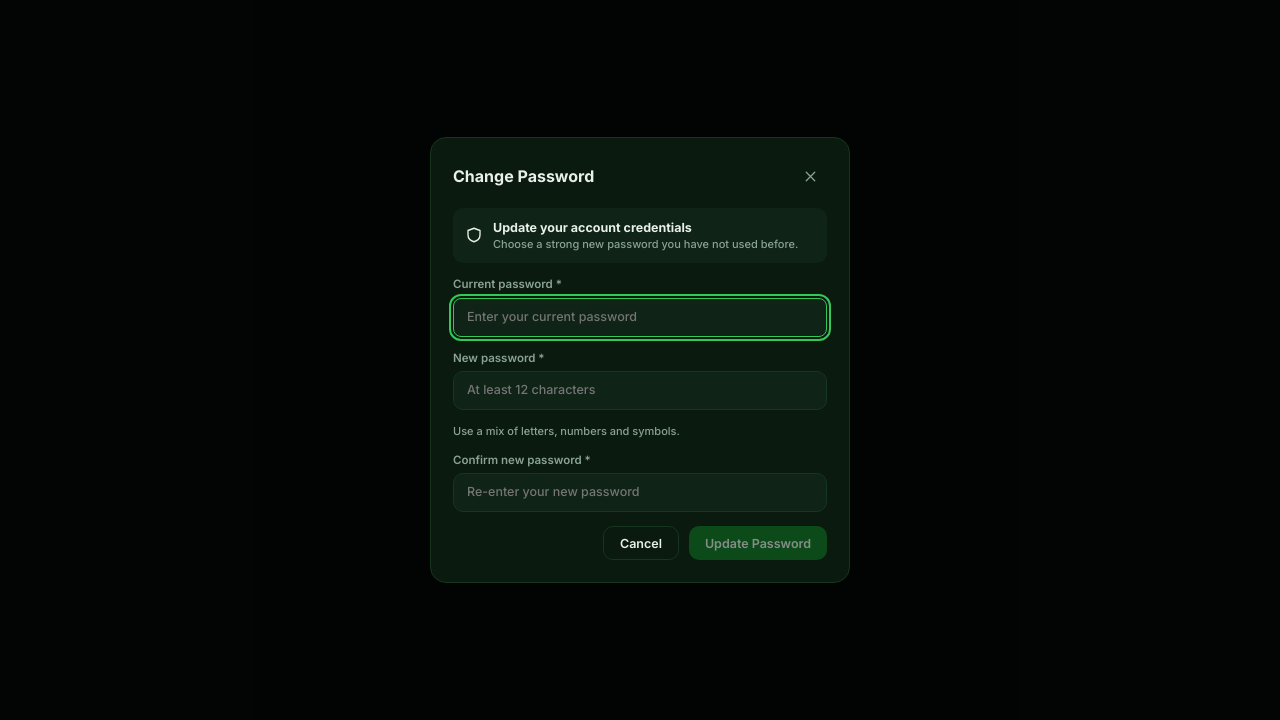
it: ChangePassword › shows what the server said when it refuses
Type "wrong-password-1" into the password field labelled "Current password *".
click(640, 317); type("wrong-password-1")  # box [453,298,827,337]
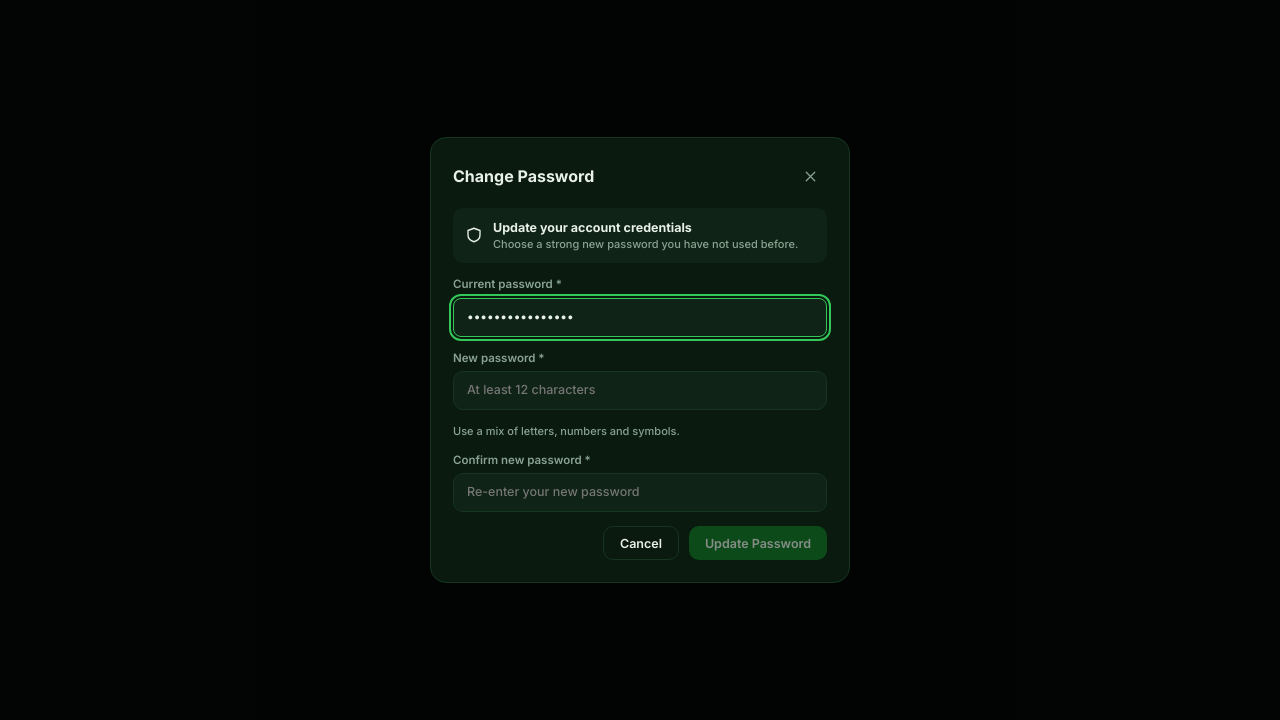
Type "brand-new-pass-7" into the password field labelled "New password *".
click(640, 391); type("brand-new-pass-7")  # box [453,371,827,410]
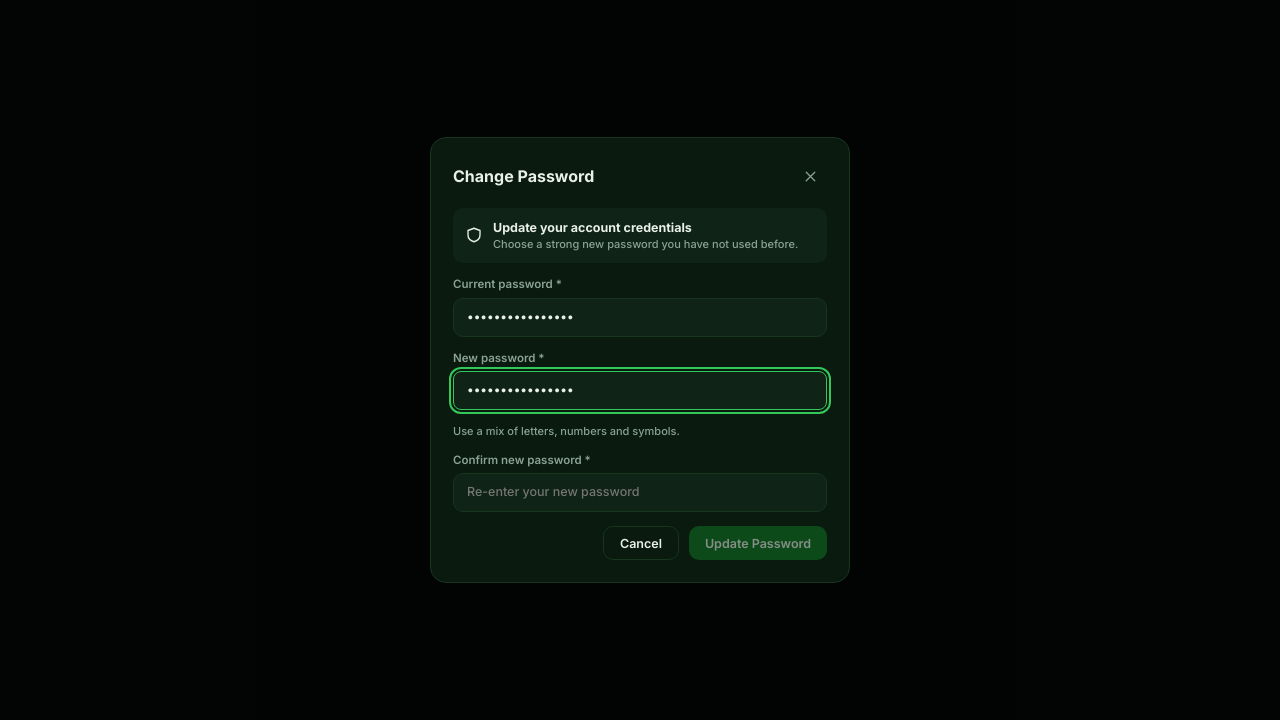
Type "brand-new-pass-7" into the password field labelled "Confirm new password *".
click(640, 493); type("brand-new-pass-7")  # box [453,474,827,512]
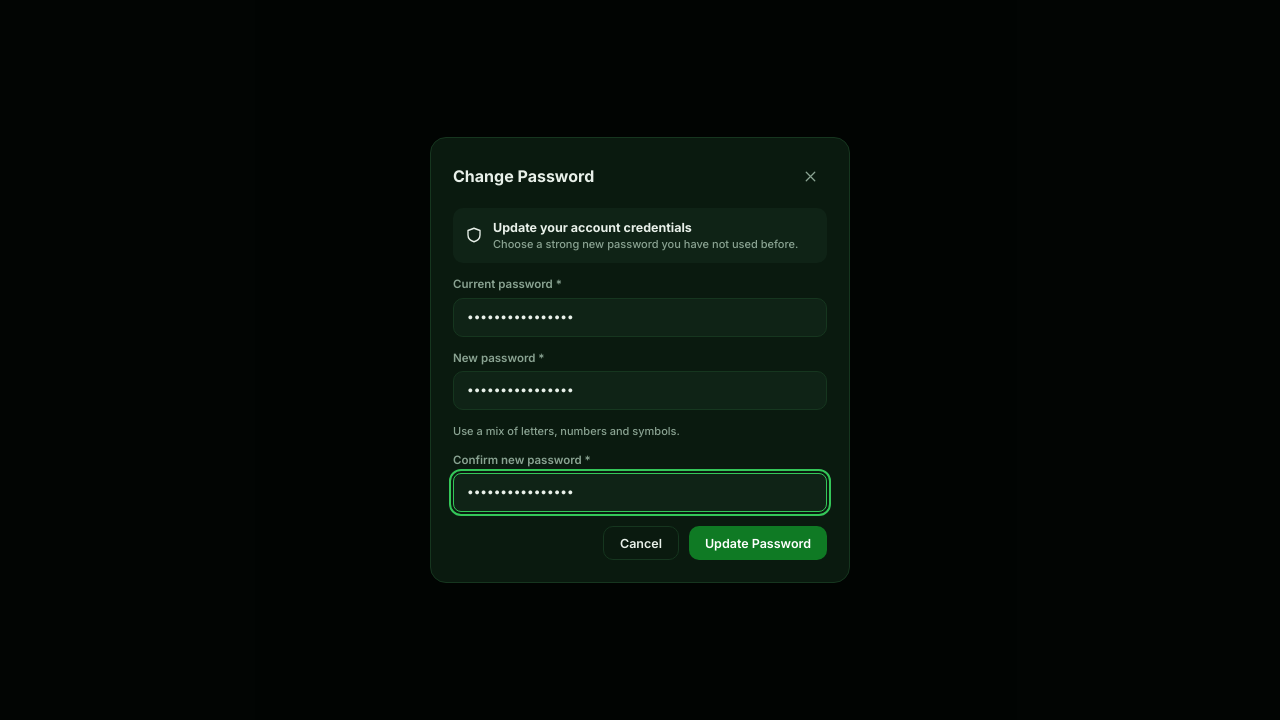
Click the button "Update Password".
click(758, 543)  # box [689,526,827,560]
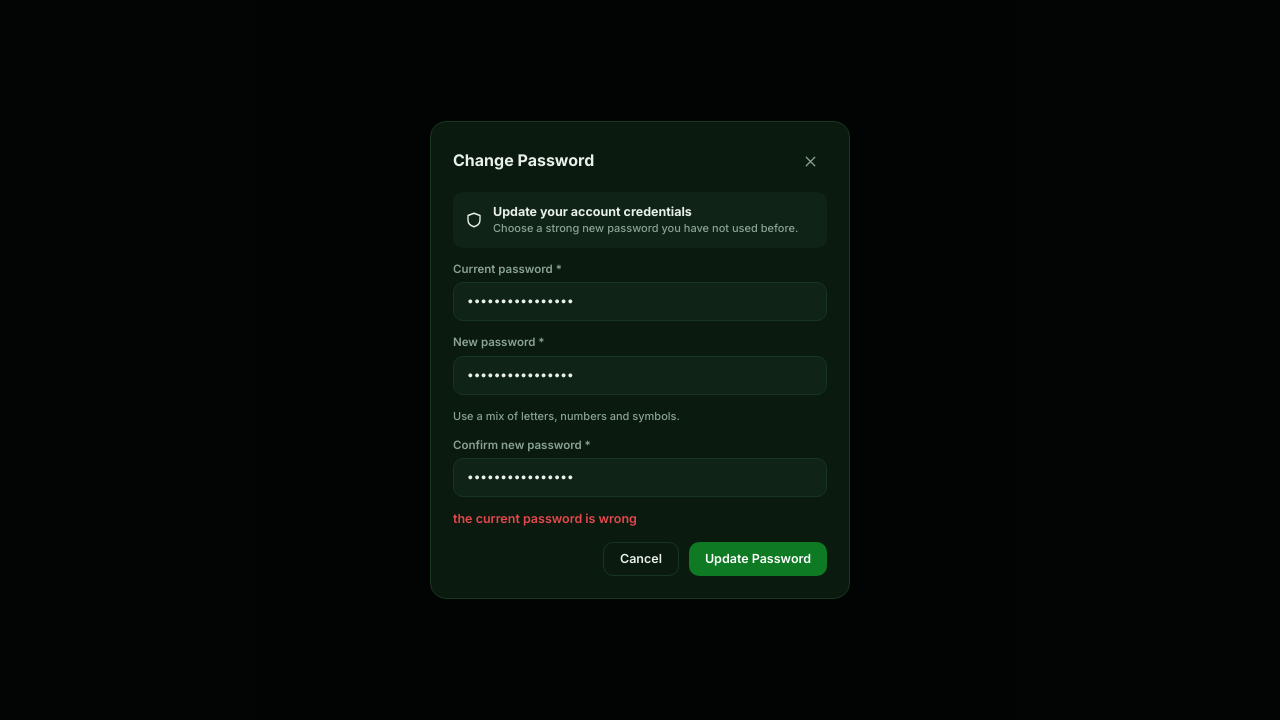
Now the message reads "the current password is wrong", box [453,511,637,526]
